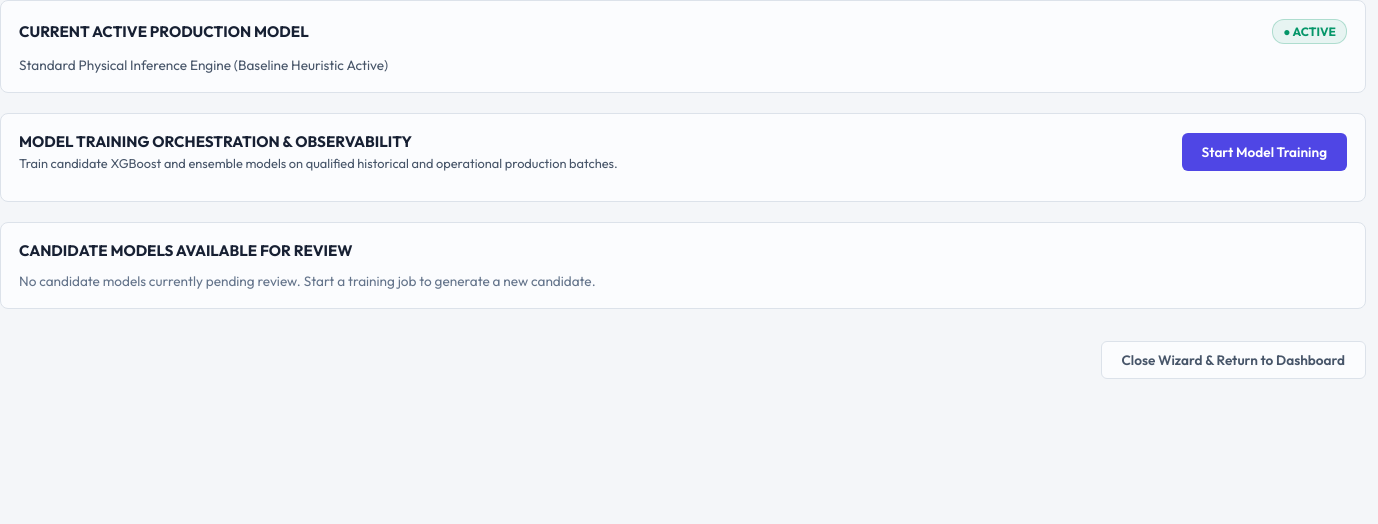
Test: Step6ModelTraining Component — Phase 13F / ML-6 Frontend Verification › 4. 409 Concurrent Training Job response is cleanly handled without stack trace
What coordinates should you click on to do the following:
click the button "Start Model Training"
I would click on:
 (1264, 152)
Its box is x1=1182 y1=132 x2=1347 y2=170.
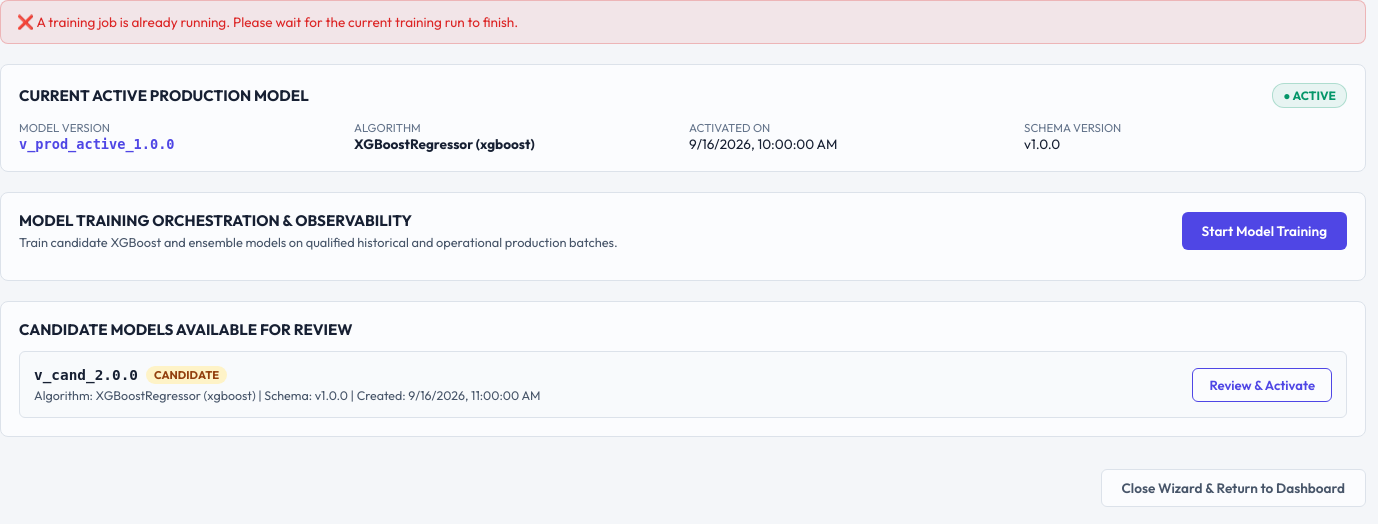
Expected: the text "A training job is already running" is shown, x1=36 y1=13 x2=518 y2=31
